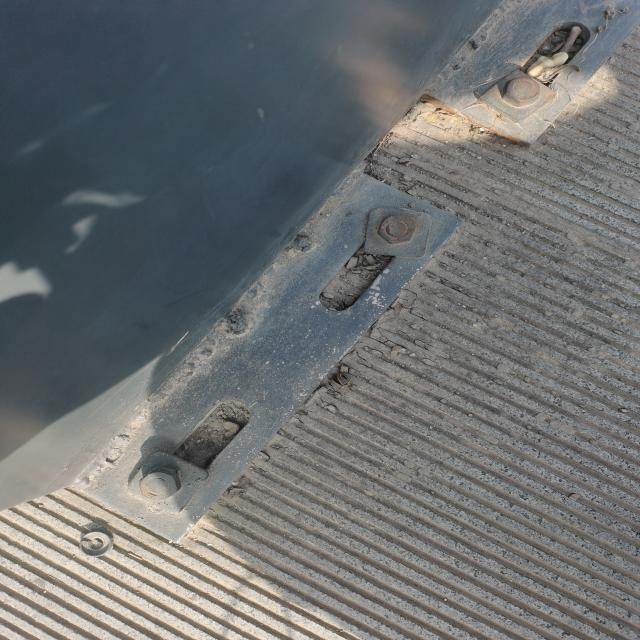bolt nut: (136, 468, 184, 502), (500, 75, 541, 108), (376, 213, 417, 245)
